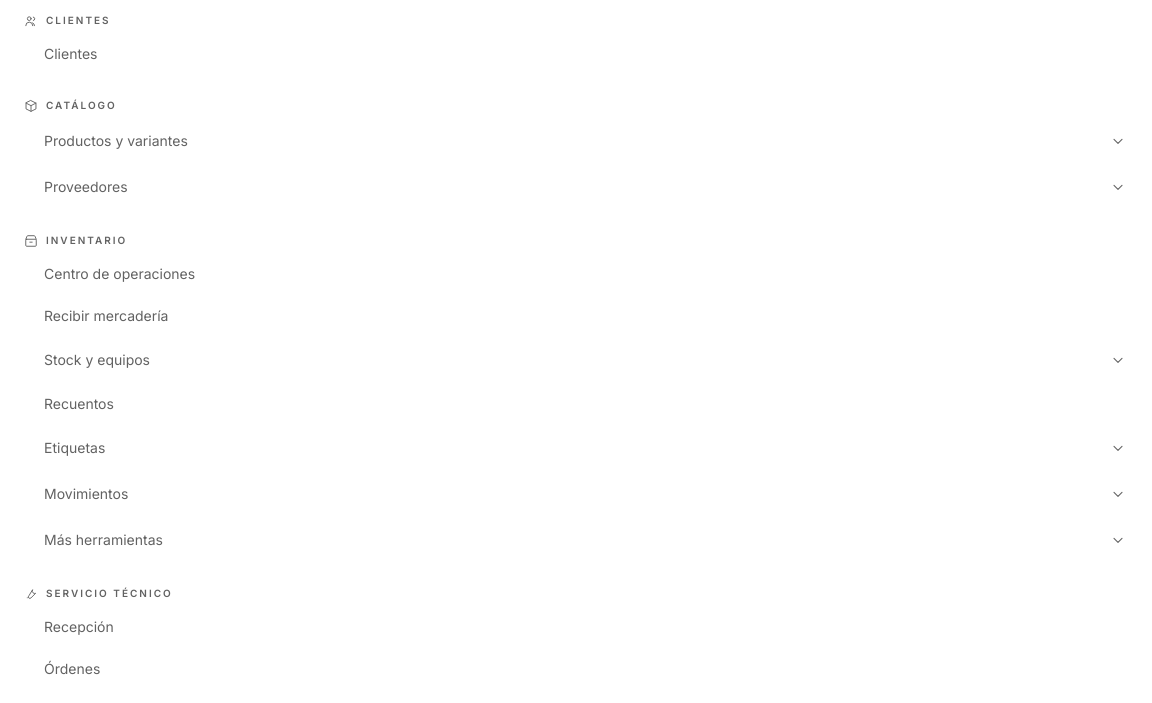
Test: el menú dibujado › el botón de cada destino muestra y oculta sus opciones, con aria-expanded
(page scrolled)
Click the button named "Opciones de Stock y equipos": (1118, 360) [1096, 338, 1140, 382]
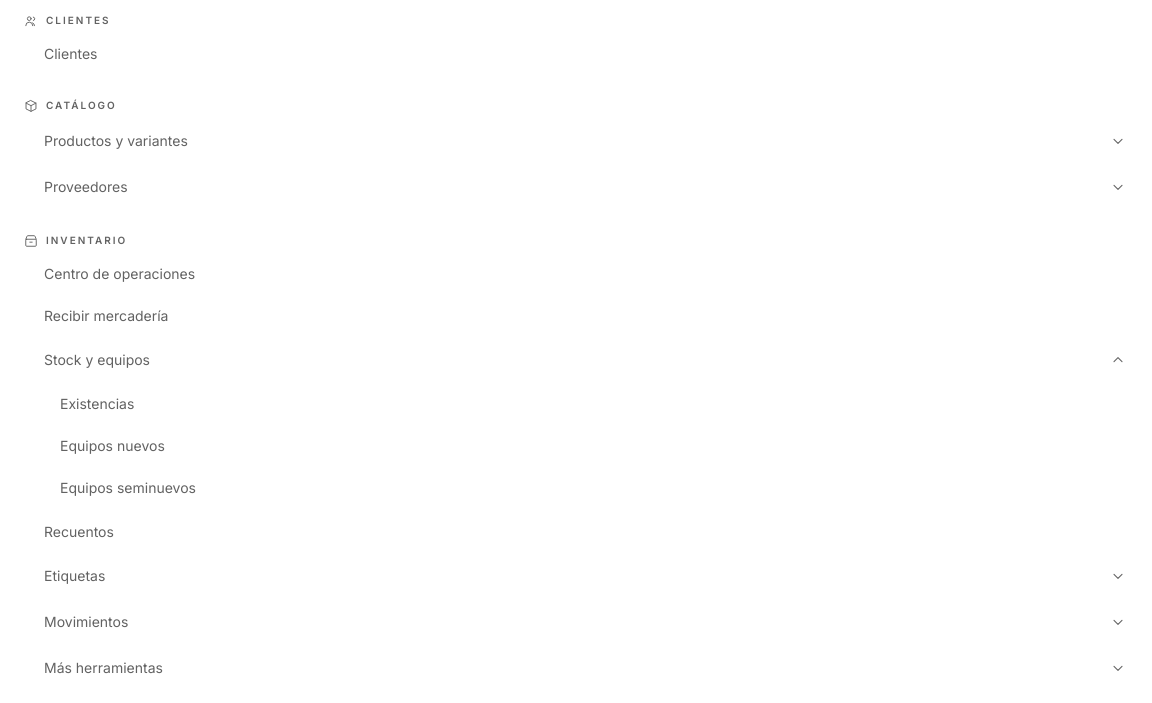
Now the button named "Opciones de Stock y equipos" is expanded
Click the button named "Opciones de Stock y equipos": (1118, 360) [1096, 338, 1140, 382]
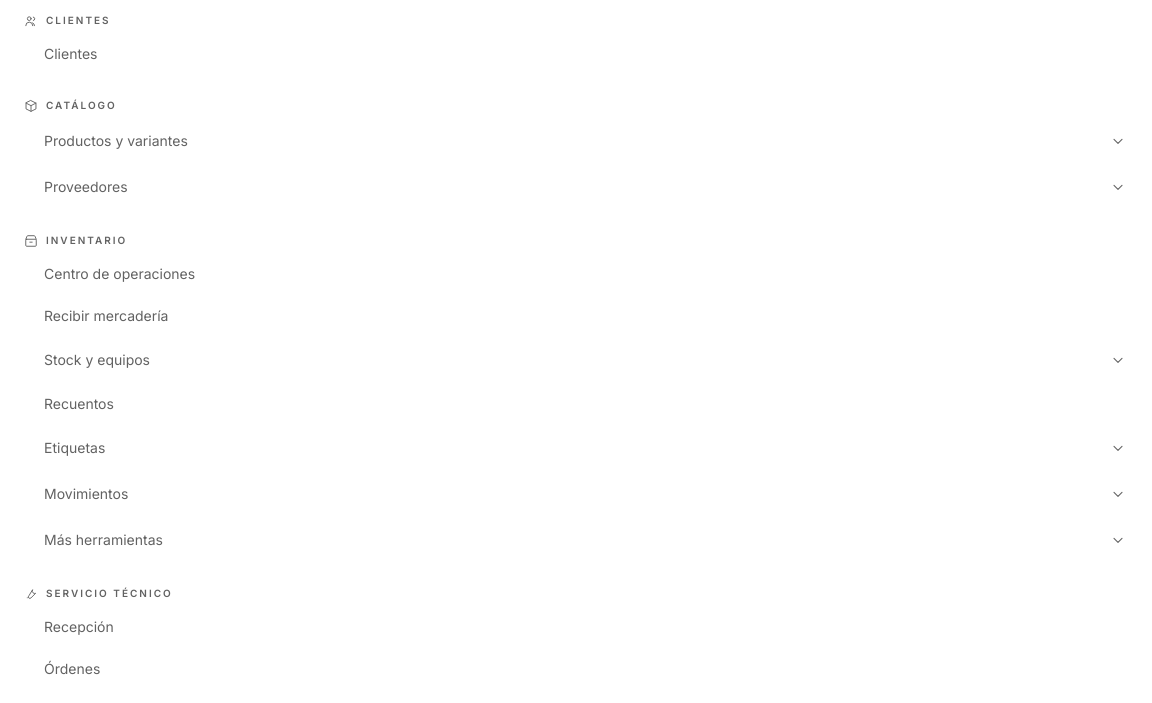
Now the link "Equipos seminuevos" is gone
